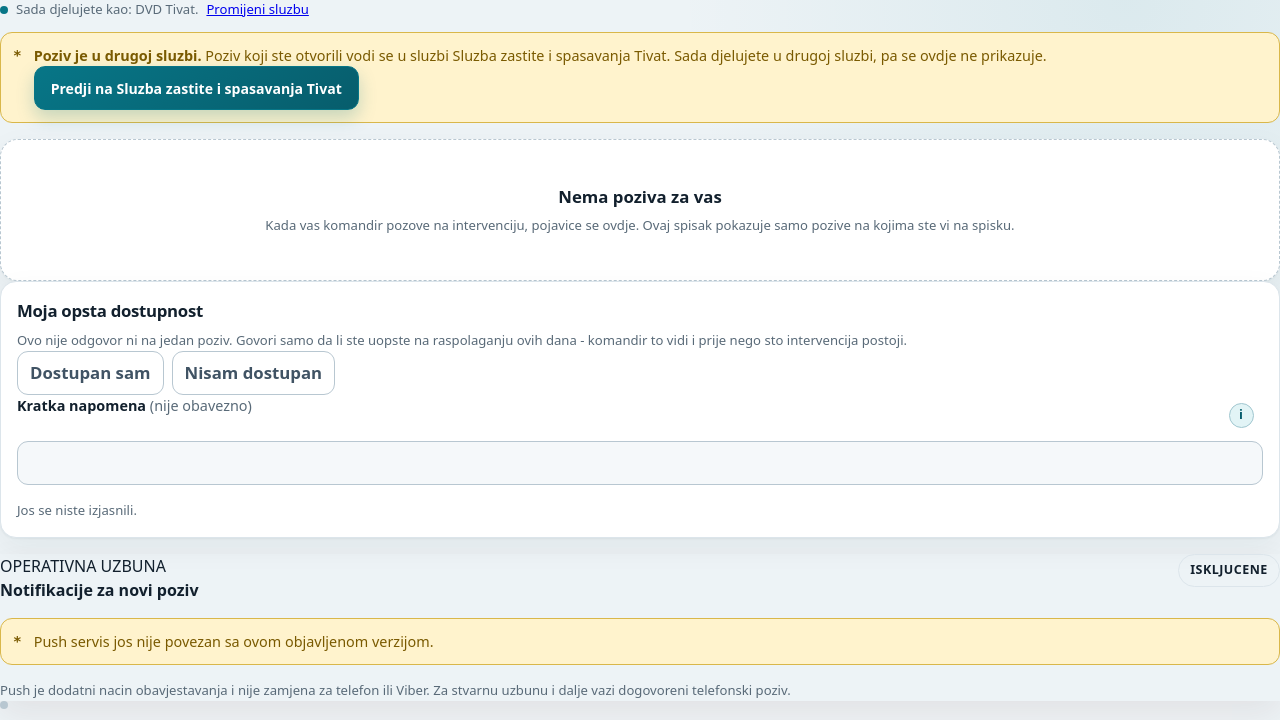
Test: a notification for a call-out in the other service › switches to the addressed service when the current service owns the joint incident
Expected: the element with test id "cross-service-callout" shows "Sluzba zastite i spasavanja Tivat", x1=205 y1=46 x2=1047 y2=65
Click the button with test id "switch-to-other-service" at [196, 88], box x1=34 y1=66 x2=359 y2=110
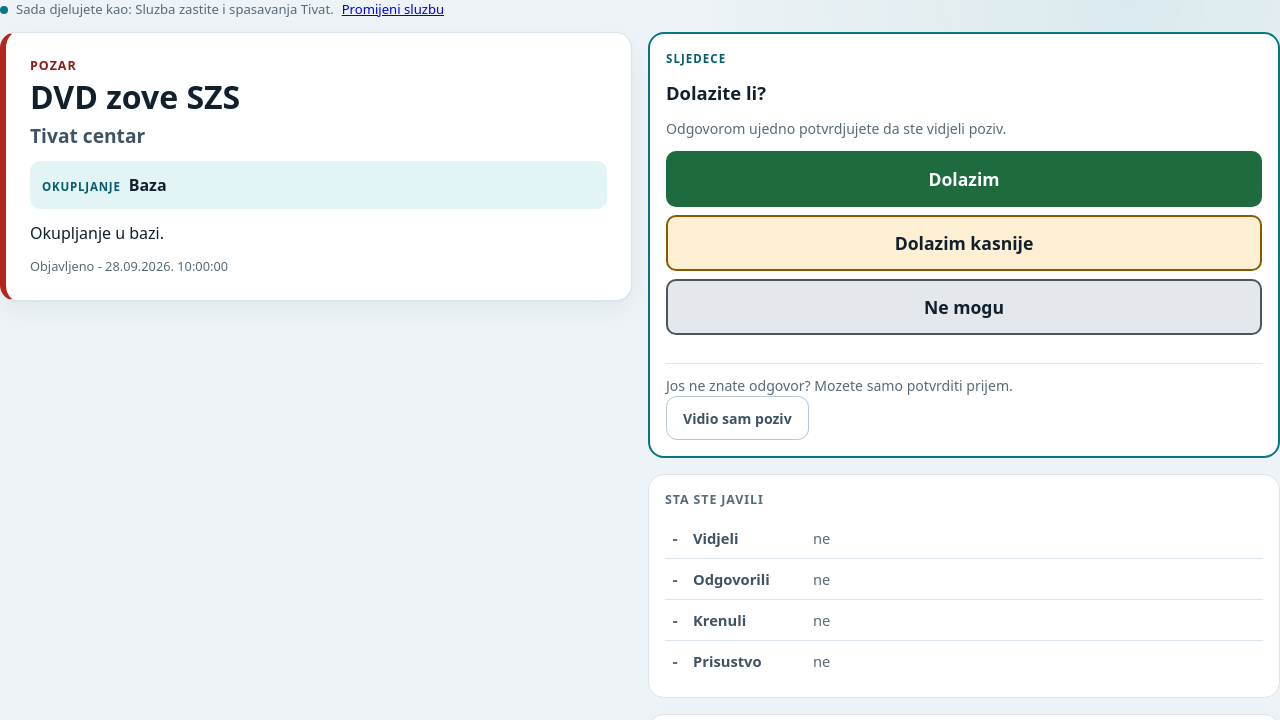
Result: the element with test id "cross-service-callout" is gone
Result: the text "DVD zove SZS" is shown at x1=30 y1=75 x2=240 y2=118
